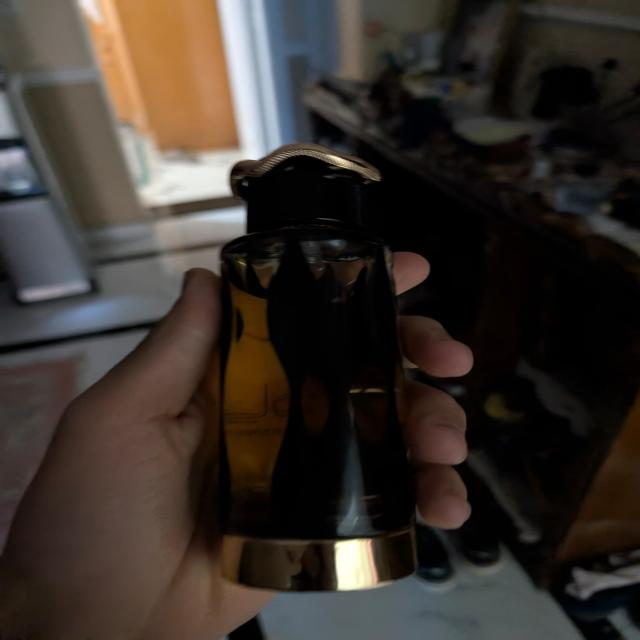Teriaq-Intense: (215, 141, 419, 593)
